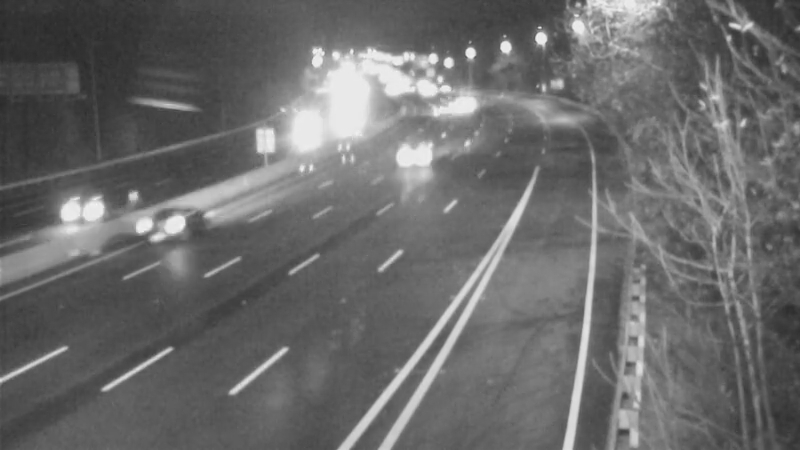vehicle: (378, 117, 458, 197), (117, 189, 197, 269), (39, 170, 119, 250), (403, 69, 453, 119), (438, 79, 488, 129), (412, 81, 462, 131), (282, 101, 332, 151)
